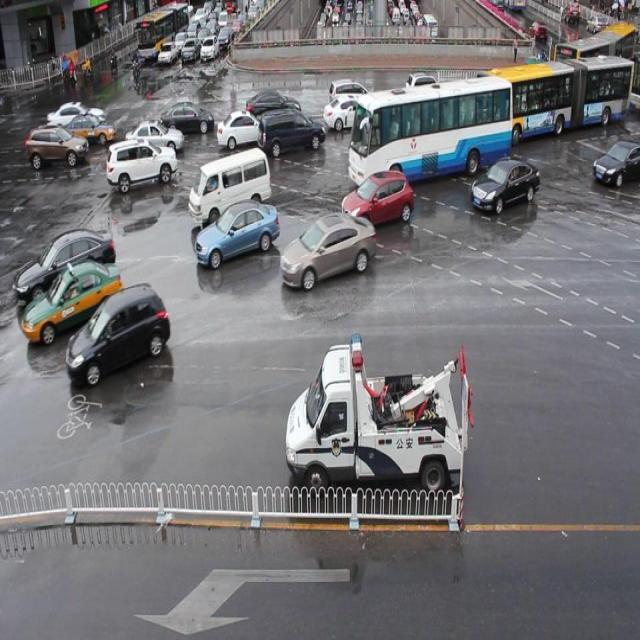bus: (286, 333, 474, 494)
car: (66, 284, 171, 380), (23, 261, 122, 343), (16, 226, 115, 305), (280, 213, 375, 287), (194, 202, 278, 265), (341, 169, 412, 230), (107, 138, 177, 191), (471, 161, 540, 209), (258, 107, 325, 155), (28, 124, 88, 168), (591, 139, 640, 187), (46, 101, 105, 137), (245, 88, 302, 124), (126, 118, 184, 153), (216, 110, 268, 147), (161, 100, 213, 136), (323, 94, 373, 131), (67, 112, 116, 144), (328, 79, 374, 113), (406, 70, 442, 107), (407, 90, 439, 129), (440, 86, 473, 118), (475, 69, 505, 104)
truck: (189, 150, 270, 222)
van: (348, 84, 510, 180), (481, 60, 631, 127)
